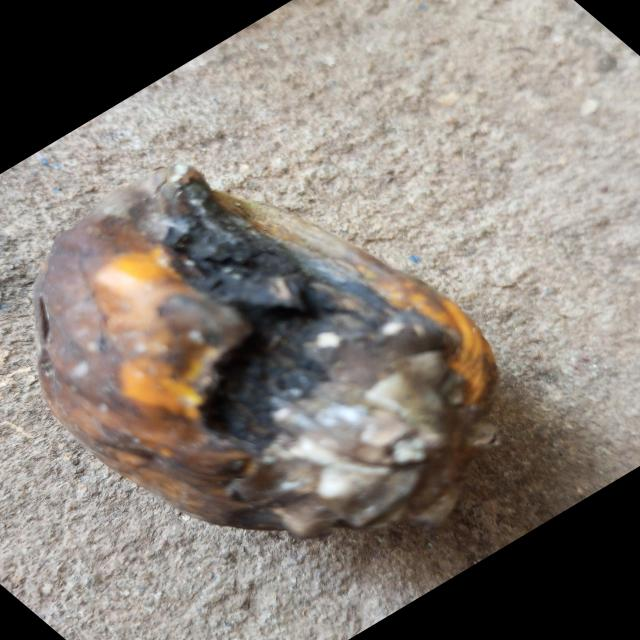damaged: (36, 169, 499, 543)
